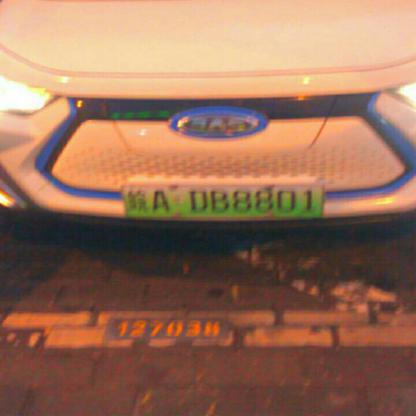lp: (122, 185, 322, 218)
